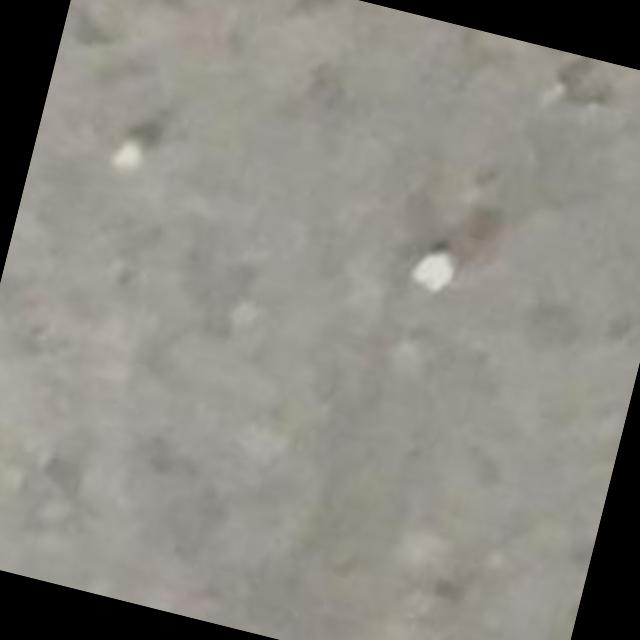peeling plaster: (410, 249, 454, 293)
